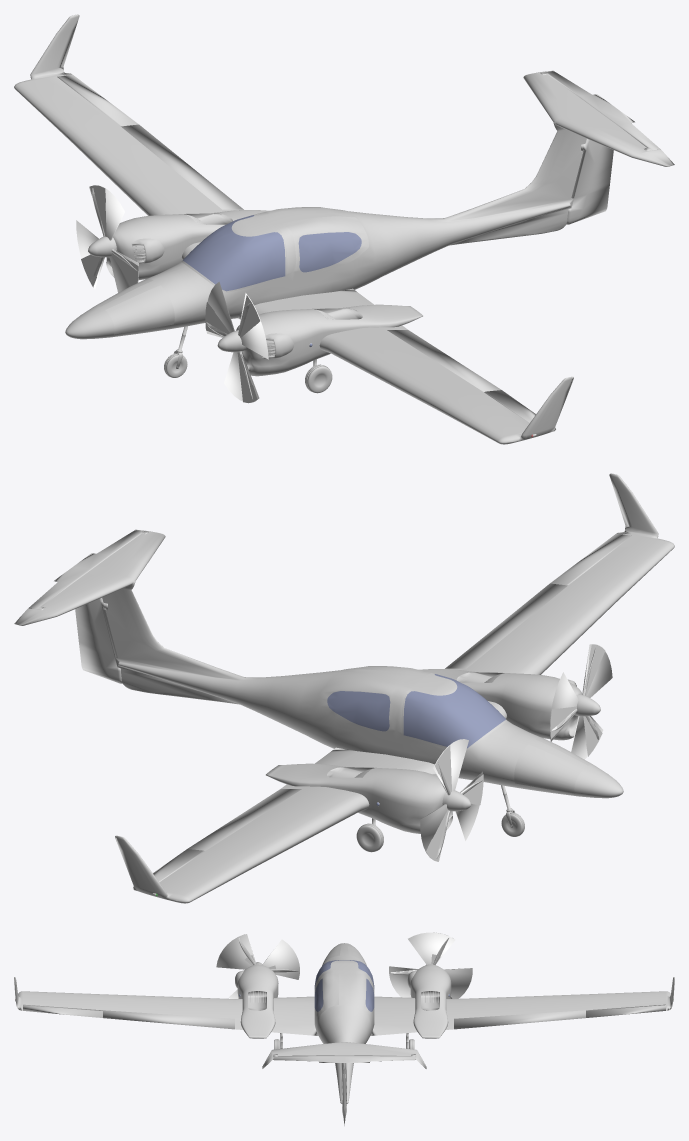
The model's file is Diamond-Da42_da42.glb.
3 renders of one model, top to bottom at view 1: azimuth 30°, elevation 25°; view 2: azimuth 150°, elevation 25°; view 3: azimuth 270°, elevation 25°, orthographic. The views are drawn at different scales.
Visible parts, largest first — view 1: airframe; view 2: airframe; view 3: airframe.
Boxes of the visible parts, bbox=[...] form: airframe: bbox=[14, 14, 674, 444]; airframe: bbox=[14, 473, 674, 903]; airframe: bbox=[14, 932, 674, 1126].
Bounding box in the file's own units: 8.55 × 2.46 × 13.31.
